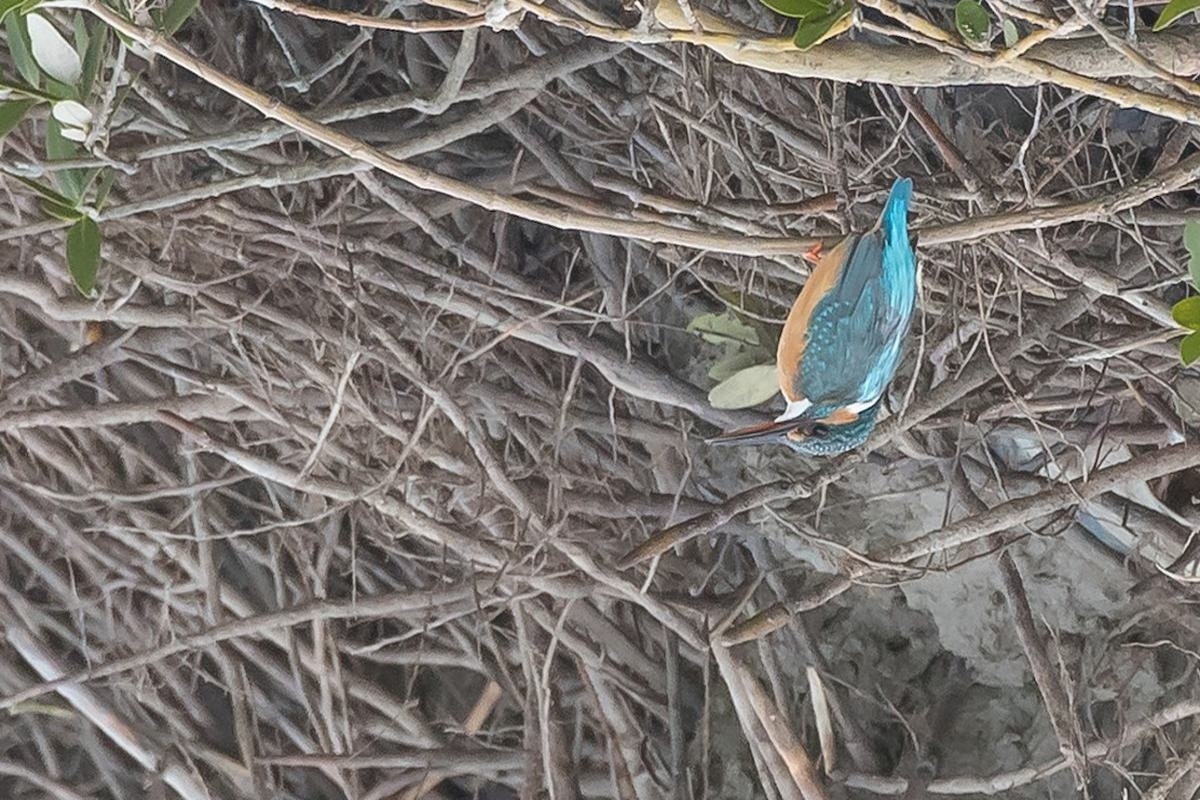kingfisher: (726, 178, 917, 475)
